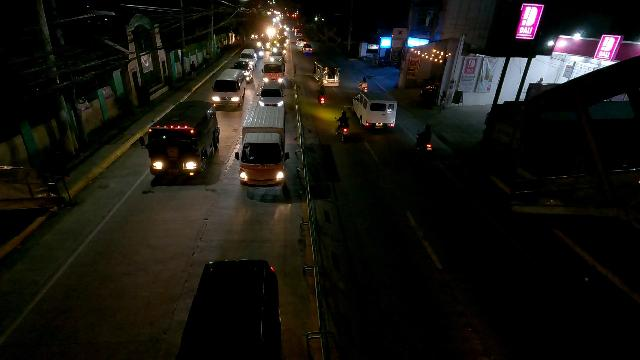car: (172, 258, 280, 360), (256, 82, 285, 108), (232, 59, 255, 84), (238, 49, 257, 68), (267, 50, 285, 69), (302, 44, 313, 53), (297, 38, 307, 47), (292, 28, 301, 36), (284, 38, 289, 46)
jeepney: (312, 60, 341, 88)
motorcycle: (334, 113, 351, 143), (415, 130, 432, 152), (318, 86, 327, 107), (358, 79, 369, 93)
truck: (262, 62, 284, 84)
van: (140, 100, 220, 183), (234, 105, 288, 194), (351, 92, 398, 131), (210, 69, 246, 110)
